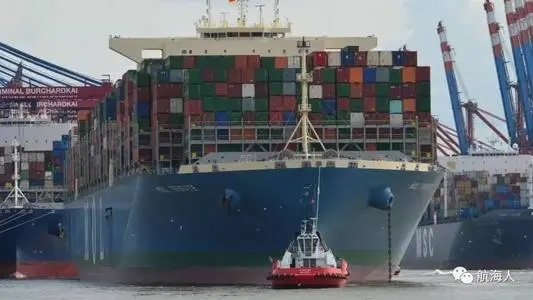Cargoship: (42, 1, 432, 282)
otherboat: (271, 184, 356, 290)
